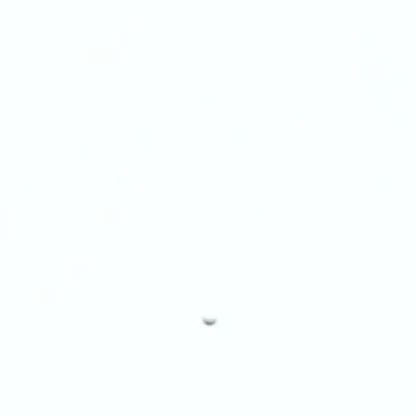golfball: (199, 313, 217, 324)
